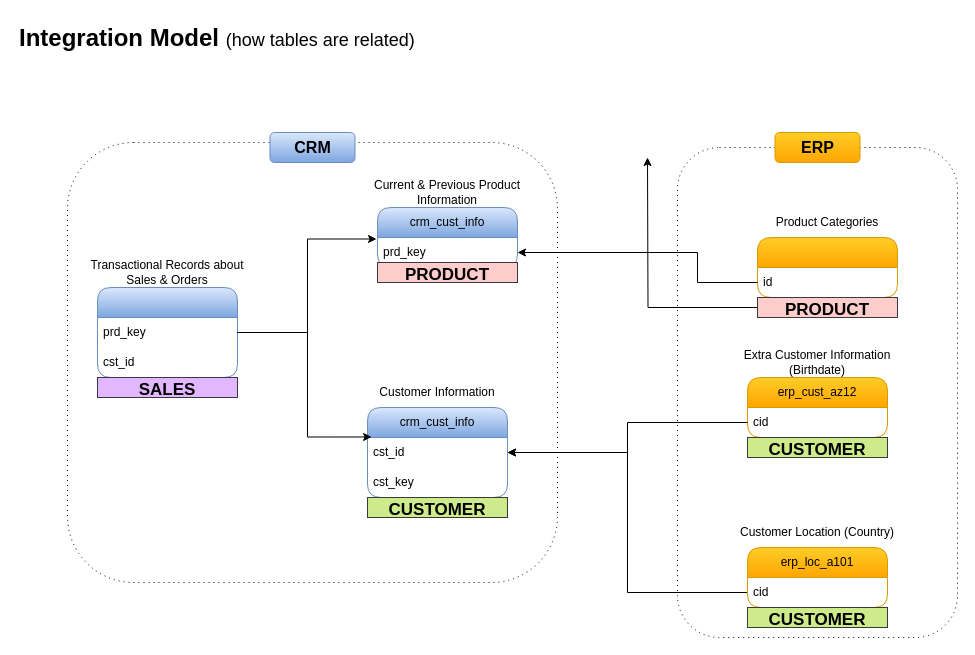
Image size: 975x655. Some labels were removed from this diagram. The shapes that lost their labels are listed below. From the top down, each one's box as (x1, y1, x2, y2) in pixels, then its label:
(756, 236, 898, 298): erp_px_cat_g1v2
(96, 286, 238, 378): crm_sales_details
